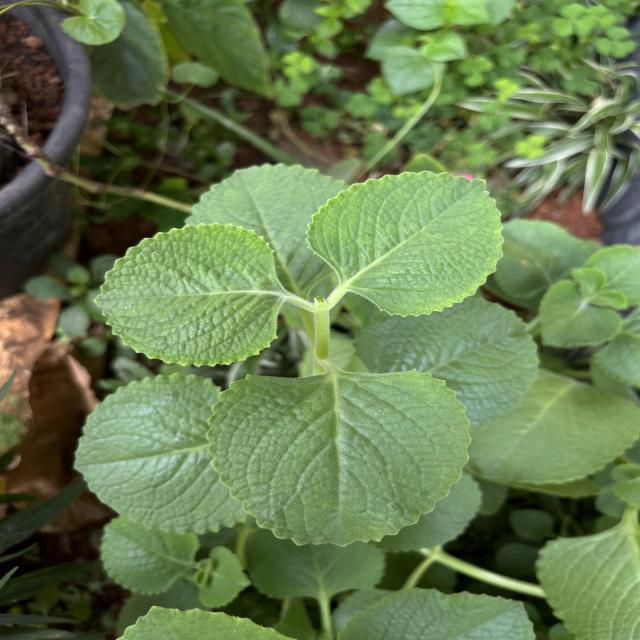Plectranthus barbatus: (205, 368, 474, 549), (71, 370, 252, 536), (304, 171, 506, 318), (92, 222, 286, 368), (98, 516, 202, 596), (538, 278, 622, 349)
